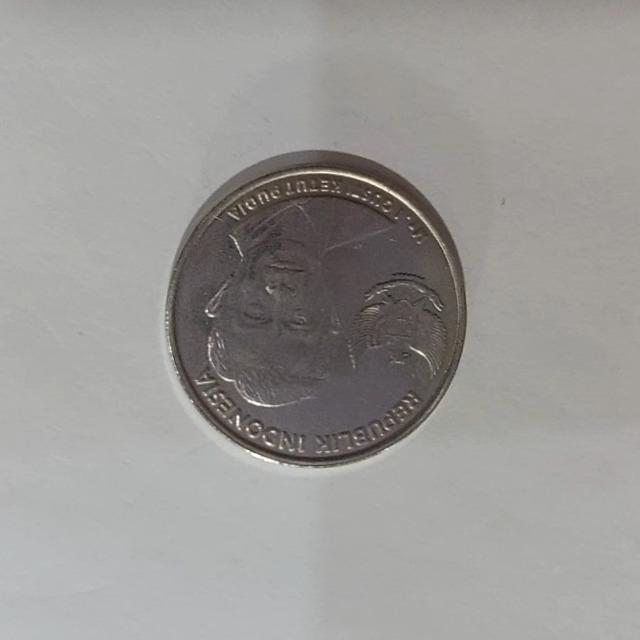Rp100: (163, 149, 468, 470)
